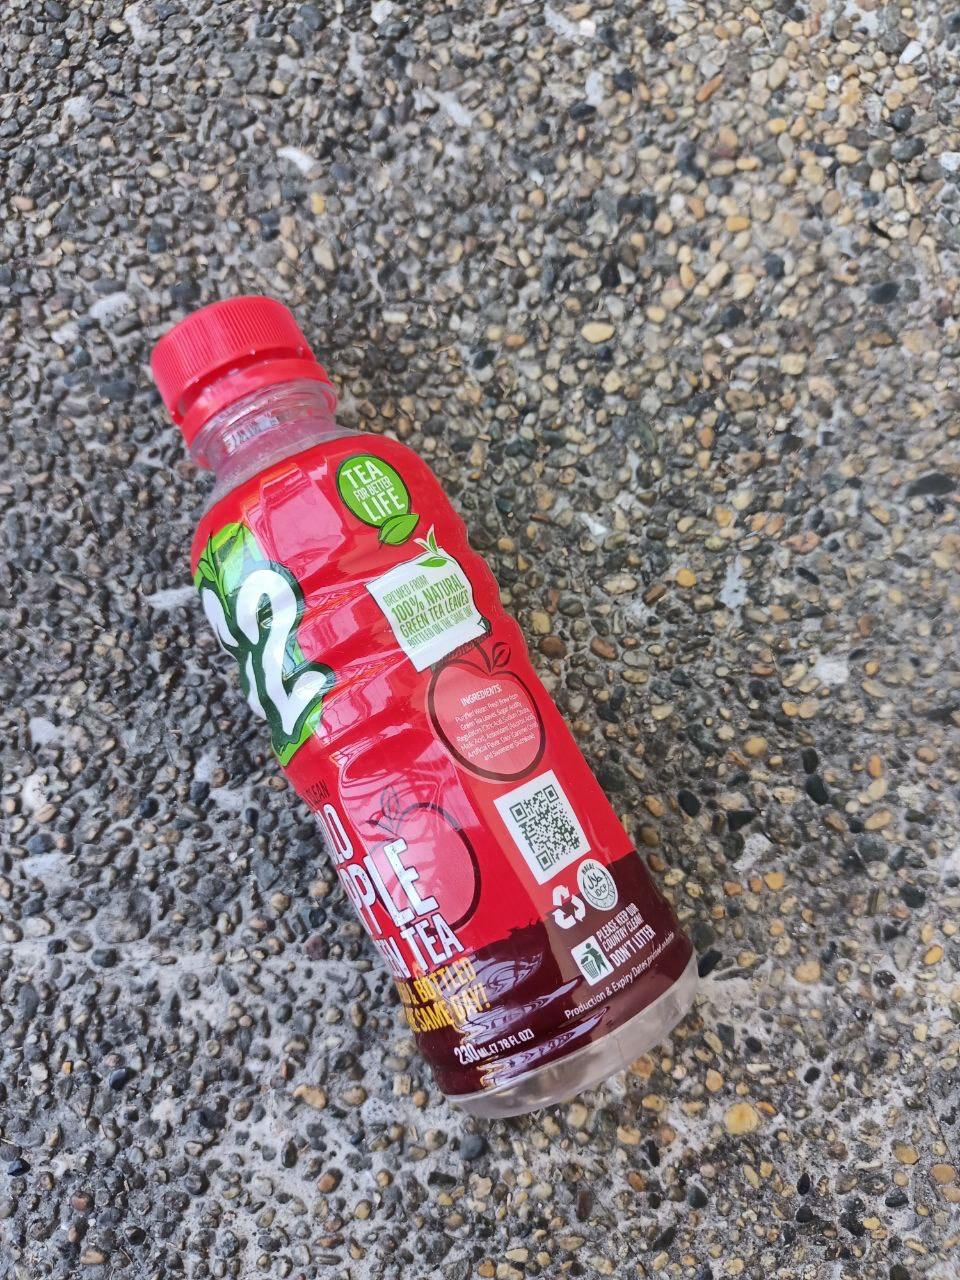plastic: (125, 234, 721, 1132)
